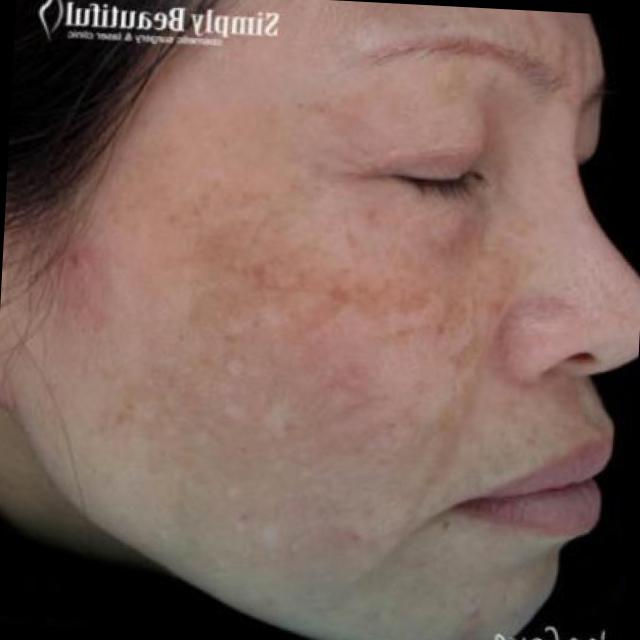melasma: (110, 127, 507, 576)
